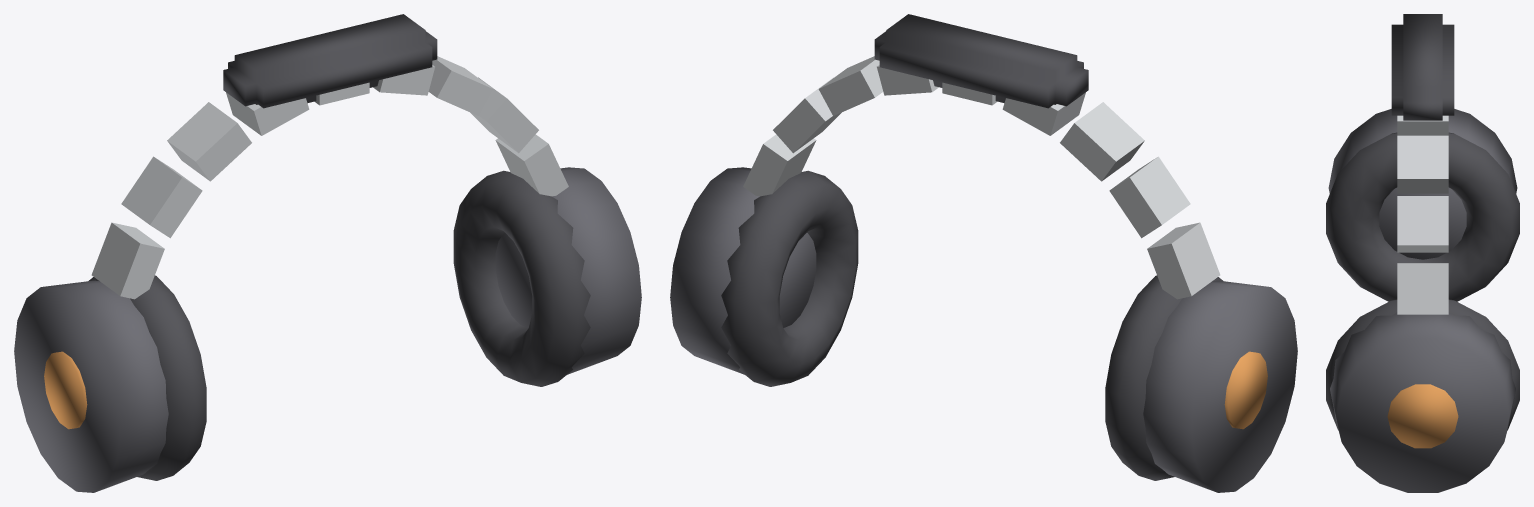
The model's file is vm_headphones.glb.
The picture shows the model from 3 angles, left to right: view 1: azimuth 30°, elevation 25°; view 2: azimuth 150°, elevation 25°; view 3: azimuth 270°, elevation 25°; orthographic projection. The views are drawn at different scales.
Visible parts, largest first — view 1: CupShell_L, CupPad_R, CupShell_R, CrownPad, CupPad_L, BandSeg_3, BandSeg_1, BandSeg_2, Badge_L, BandSeg_9, BandSeg_7, BandSeg_8 (+2 smaller); view 2: CupShell_L, CupPad_R, CupShell_R, CrownPad, CupPad_L, BandSeg_3, BandSeg_1, BandSeg_2, Badge_L, BandSeg_9, BandSeg_7, BandSeg_8 (+2 smaller); view 3: CupShell_R, CupPad_L, CrownPad, CupShell_L, Badge_R, BandSeg_7, BandSeg_8, BandSeg_9, CupPad_R, BandSeg_6.
Part boxes in pixels (bbox=[...]): CupShell_L: bbox=[14, 280, 168, 492]; CupPad_R: bbox=[453, 170, 590, 386]; CupShell_R: bbox=[495, 167, 641, 374]; CrownPad: bbox=[223, 14, 437, 108]; CupPad_L: bbox=[88, 275, 206, 480]; BandSeg_3: bbox=[167, 102, 251, 181]; BandSeg_1: bbox=[91, 222, 164, 299]; BandSeg_2: bbox=[121, 156, 202, 238]; Badge_L: bbox=[44, 351, 87, 429]; BandSeg_9: bbox=[495, 134, 568, 196]; BandSeg_7: bbox=[428, 56, 493, 115]; BandSeg_8: bbox=[470, 77, 538, 153]; CupShell_L: bbox=[1143, 280, 1297, 492]; CupPad_R: bbox=[721, 170, 858, 386]; CupShell_R: bbox=[670, 167, 816, 374]; CrownPad: bbox=[874, 14, 1088, 108]; CupPad_L: bbox=[1105, 275, 1223, 480]; BandSeg_3: bbox=[1060, 102, 1144, 181]; BandSeg_1: bbox=[1147, 222, 1220, 299]; BandSeg_2: bbox=[1109, 156, 1190, 238]; Badge_L: bbox=[1224, 351, 1267, 429]; BandSeg_9: bbox=[743, 134, 816, 196]; BandSeg_7: bbox=[818, 56, 883, 115]; BandSeg_8: bbox=[773, 77, 841, 153]; CupShell_R: bbox=[1330, 312, 1515, 492]; CupPad_L: bbox=[1326, 132, 1519, 301]; CrownPad: bbox=[1391, 14, 1454, 120]; CupShell_L: bbox=[1328, 109, 1517, 259]; Badge_R: bbox=[1387, 384, 1458, 448]; BandSeg_7: bbox=[1397, 135, 1448, 193]; BandSeg_8: bbox=[1397, 196, 1448, 252]; BandSeg_9: bbox=[1397, 263, 1448, 314]; CupPad_R: bbox=[1326, 299, 1519, 430]; BandSeg_6: bbox=[1397, 115, 1448, 135].
Size of the model in its own units: 0.2774 by 0.191 by 0.0985.
